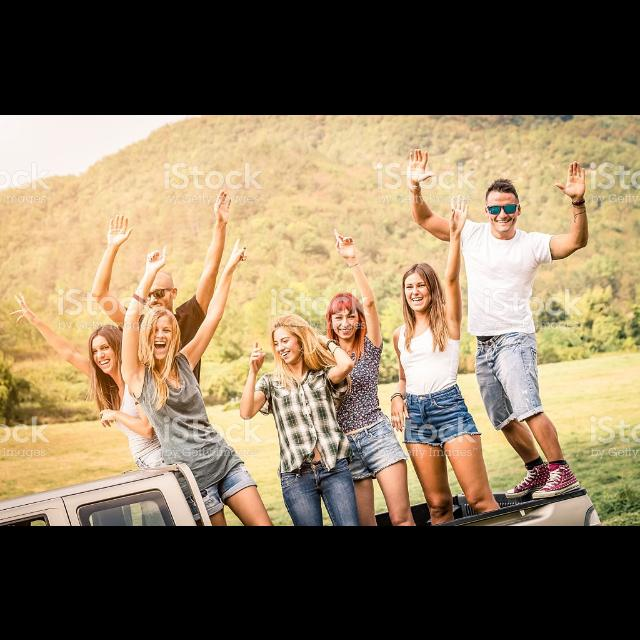head: (484, 182, 524, 232), (89, 322, 127, 374), (143, 268, 179, 316), (403, 263, 437, 313), (146, 306, 177, 360), (272, 320, 308, 364), (330, 293, 360, 339)
person: (405, 146, 591, 504)
